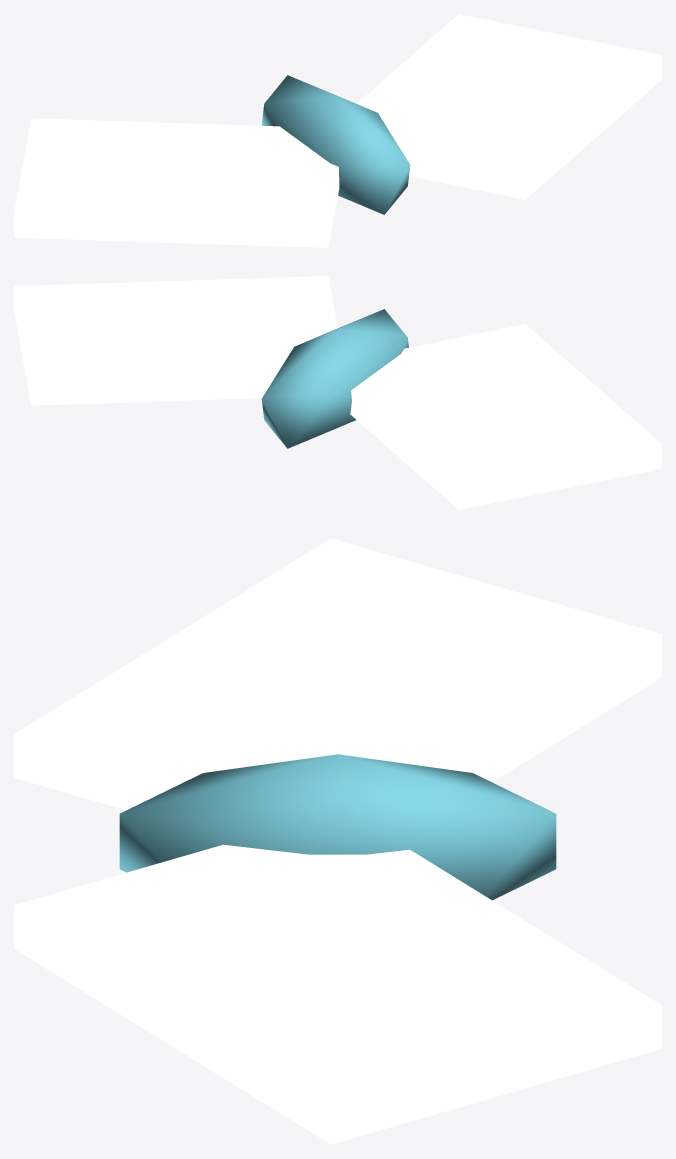
Rendered from crystalfly.glb.
3 views of the same model, one above another, from view 1: azimuth 30°, elevation 25°; view 2: azimuth 150°, elevation 25°; view 3: azimuth 270°, elevation 25° (orthographic). The views are drawn at different scales.
Visible parts, largest first — view 1: GlowWingL, GlowWingR, Body; view 2: GlowWingL, GlowWingR, Body; view 3: GlowWingR, GlowWingL, Body.
Part boxes in pixels (x1=…): GlowWingL: x1=14, y1=118, x2=339, y2=247; GlowWingR: x1=357, y1=14, x2=661, y2=199; Body: x1=261, y1=75, x2=410, y2=214; GlowWingL: x1=350, y1=324, x2=661, y2=509; GlowWingR: x1=14, y1=276, x2=337, y2=405; Body: x1=261, y1=309, x2=408, y2=448; GlowWingR: x1=14, y1=844, x2=661, y2=1144; GlowWingL: x1=14, y1=538, x2=661, y2=810; Body: x1=119, y1=754, x2=556, y2=900.
Size of the model in its own units: 0.166 by 0.024 by 0.0808.
